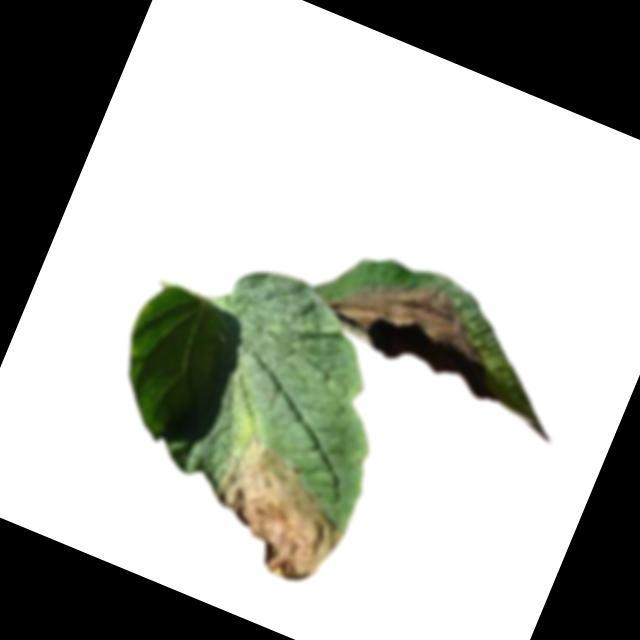Late_blight: (189, 426, 367, 595), (330, 253, 503, 376)
